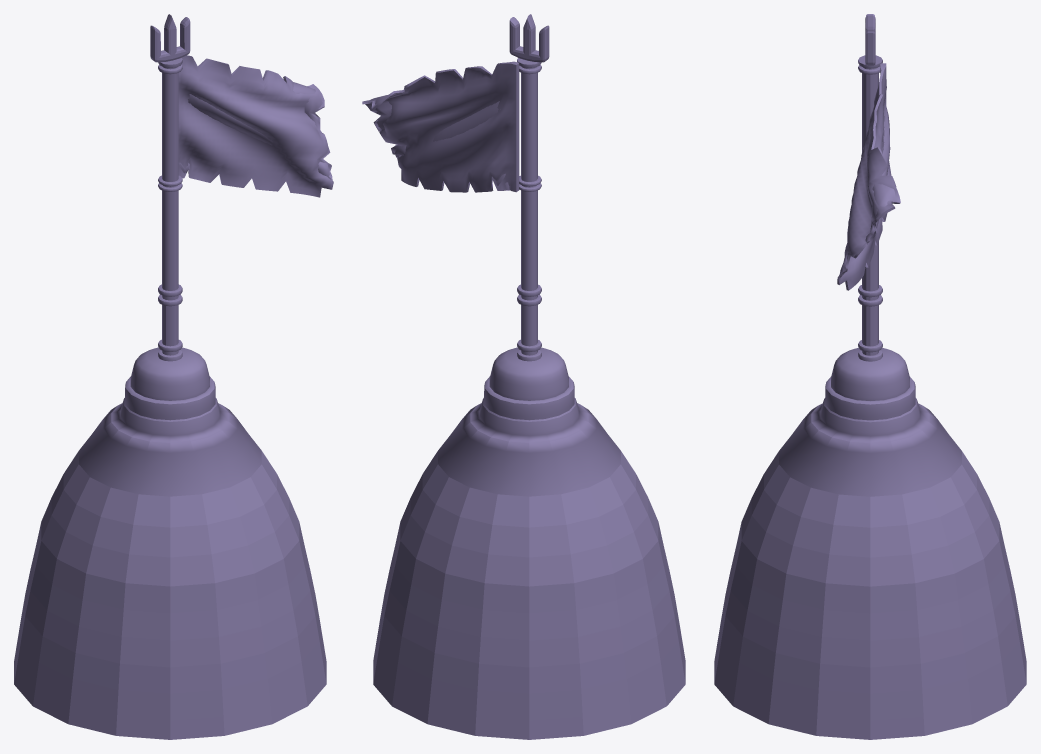
The model's file is OBJ_RockTower_TypeA.fbx.
The picture shows the model from 3 angles, left to right: view 1: azimuth 30°, elevation 25°; view 2: azimuth 150°, elevation 25°; view 3: azimuth 270°, elevation 25°; orthographic projection.
Parts seen in each view (by area): view 1: StoneFlag_StonePillar, StoneFlag_Flag, StoneFlag_Pillar, StoneFlag_PillarFinish; view 2: StoneFlag_StonePillar, StoneFlag_Flag, StoneFlag_Pillar, StoneFlag_PillarFinish; view 3: StoneFlag_StonePillar, StoneFlag_Flag, StoneFlag_Pillar, StoneFlag_PillarFinish.
Boxes of the visible parts, left/top/right/bottom form: StoneFlag_StonePillar: left=14, top=347, right=326, bottom=739; StoneFlag_Flag: left=178, top=55, right=333, bottom=197; StoneFlag_Pillar: left=158, top=58, right=182, bottom=361; StoneFlag_PillarFinish: left=150, top=14, right=190, bottom=62; StoneFlag_StonePillar: left=373, top=347, right=685, bottom=739; StoneFlag_Flag: left=362, top=61, right=519, bottom=192; StoneFlag_Pillar: left=517, top=58, right=541, bottom=361; StoneFlag_PillarFinish: left=509, top=14, right=549, bottom=62; StoneFlag_StonePillar: left=714, top=348, right=1026, bottom=739; StoneFlag_Flag: left=837, top=63, right=900, bottom=290; StoneFlag_Pillar: left=858, top=55, right=882, bottom=361; StoneFlag_PillarFinish: left=865, top=14, right=875, bottom=65.
Bounding box in the file's own units: 13230 × 28199 × 12136.
